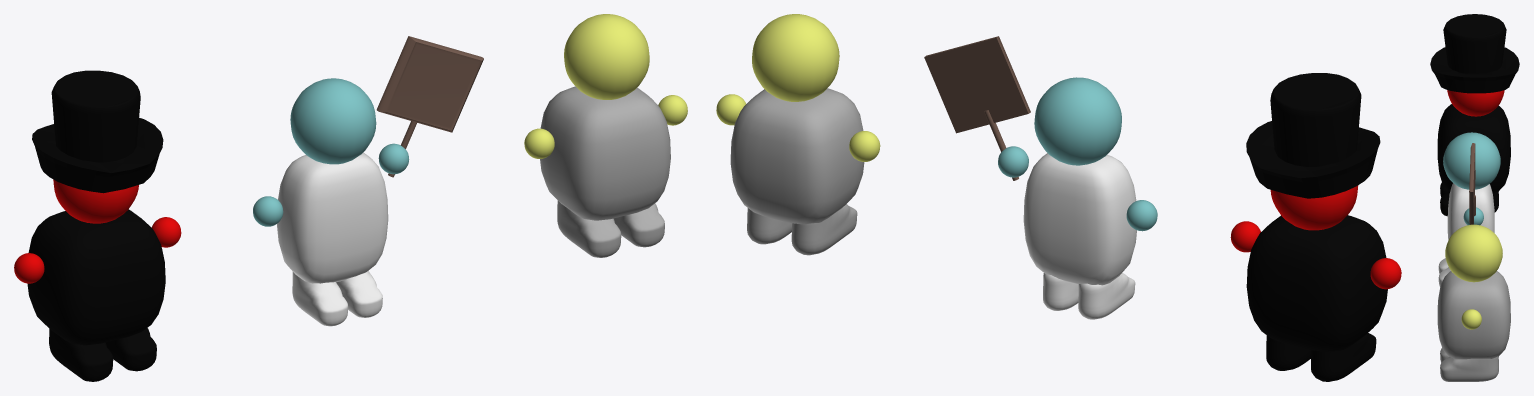
The model's file is people2.fbx.
3 renders of one model, left to right at view 1: azimuth 30°, elevation 25°; view 2: azimuth 150°, elevation 25°; view 3: azimuth 270°, elevation 25°, orthographic. The views are drawn at different scales.
Visible parts, largest first — view 1: pasted__pCube1 (×2), pCube1, pCylinder1, pCylinder3, pasted__pSphere1, pasted__pasted__pSphere1, pasted__pCube2 (×3), pDisc1, pasted__pasted__pCube2 (×2), pSphere1, pasted__pSphere2 (×3), pCube2 (+2 smaller); view 2: pasted__pCube1 (×2), pCube1, pCylinder1, pCylinder3, pasted__pSphere1, pasted__pasted__pSphere1, pDisc1, pasted__pCube2 (×3), pSphere1, pasted__pSphere2 (×3), pasted__pasted__pCube2 (×2), pCube2 (+2 smaller); view 3: pasted__pCube1 (×2), pCylinder1, pCube1, pasted__pasted__pSphere1, pasted__pSphere1, pDisc1, pasted__pasted__pCube2 (×2), pSphere1, pCylinder3, pasted__pCube2 (×2), pasted__pasted__pSphere2, pasted__pSphere2.
Boxes of the visible parts, left/top/right/bottom form: pasted__pCube1 (×2): left=277, top=86, right=670, bottom=283; pCube1: left=27, top=209, right=165, bottom=345; pCylinder1: left=51, top=70, right=140, bottom=162; pCylinder3: left=376, top=36, right=483, bottom=177; pasted__pSphere1: left=290, top=78, right=376, bottom=164; pasted__pasted__pSphere1: left=564, top=14, right=649, bottom=99; pasted__pCube2 (×3): left=105, top=200, right=621, bottom=371; pDisc1: left=32, top=117, right=163, bottom=193; pasted__pasted__pCube2 (×2): left=336, top=203, right=664, bottom=317; pSphere1: left=53, top=179, right=138, bottom=223; pasted__pSphere2 (×3): left=151, top=128, right=554, bottom=247; pCube2: left=49, top=328, right=113, bottom=381; pasted__pCube1 (×2): left=730, top=88, right=1136, bottom=285; pCube1: left=1246, top=215, right=1387, bottom=351; pCylinder1: left=1270, top=73, right=1361, bottom=166; pCylinder3: left=924, top=36, right=1030, bottom=180; pasted__pSphere1: left=1034, top=77, right=1121, bottom=165; pasted__pasted__pSphere1: left=752, top=14, right=839, bottom=101; pDisc1: left=1246, top=121, right=1380, bottom=198; pasted__pCube2 (×3): left=791, top=204, right=1311, bottom=370; pSphere1: left=1270, top=185, right=1358, bottom=230; pasted__pSphere2 (×3): left=849, top=131, right=1260, bottom=252; pasted__pasted__pCube2 (×2): left=747, top=208, right=1078, bottom=310; pCube2: left=1311, top=333, right=1376, bottom=381; pasted__pCube1 (×2): left=1437, top=183, right=1510, bottom=359; pCylinder1: left=1443, top=14, right=1506, bottom=73; pCube1: left=1437, top=104, right=1510, bottom=193; pasted__pasted__pSphere1: left=1445, top=224, right=1502, bottom=282; pasted__pSphere1: left=1443, top=132, right=1500, bottom=189; pDisc1: left=1430, top=47, right=1519, bottom=93; pasted__pasted__pCube2 (×2): left=1438, top=267, right=1498, bottom=381; pSphere1: left=1447, top=90, right=1504, bottom=116; pCylinder3: left=1469, top=143, right=1475, bottom=224; pasted__pCube2 (×2): left=1438, top=191, right=1498, bottom=273; pasted__pasted__pSphere2: left=1461, top=309, right=1481, bottom=329; pasted__pSphere2: left=1463, top=207, right=1483, bottom=225.
Bounding box in the file's own units: 11.27 × 4.39 × 1.96.
